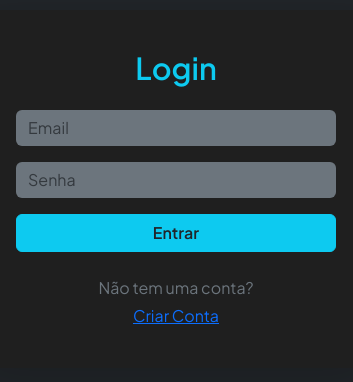
Test: Login › deve mostrar mensagem de erro quando credenciais são inválidas
This screenshot has width=353, height=382.
In the field with placeholder "Email": x=176, y=128 [16,110,336,146], type "test@example.com"
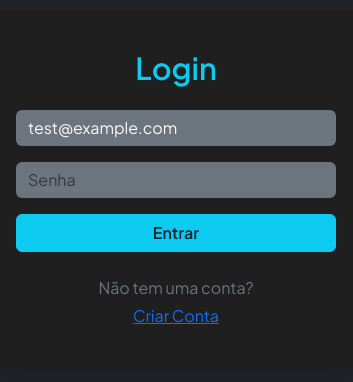
In the password field with placeholder "Senha": x=176, y=180 [16,162,336,198], type "password123"
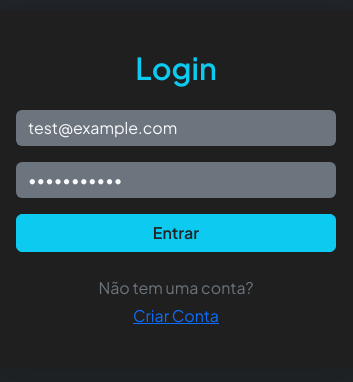
Click the button "Entrar": x=176, y=233 [16,214,336,252]
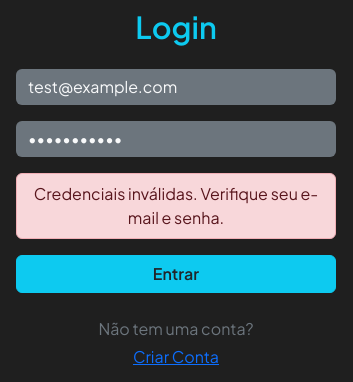
Expected: the text "Credenciais inválidas. Verifique seu e-mail e senha." is shown, [16,173,336,239]
